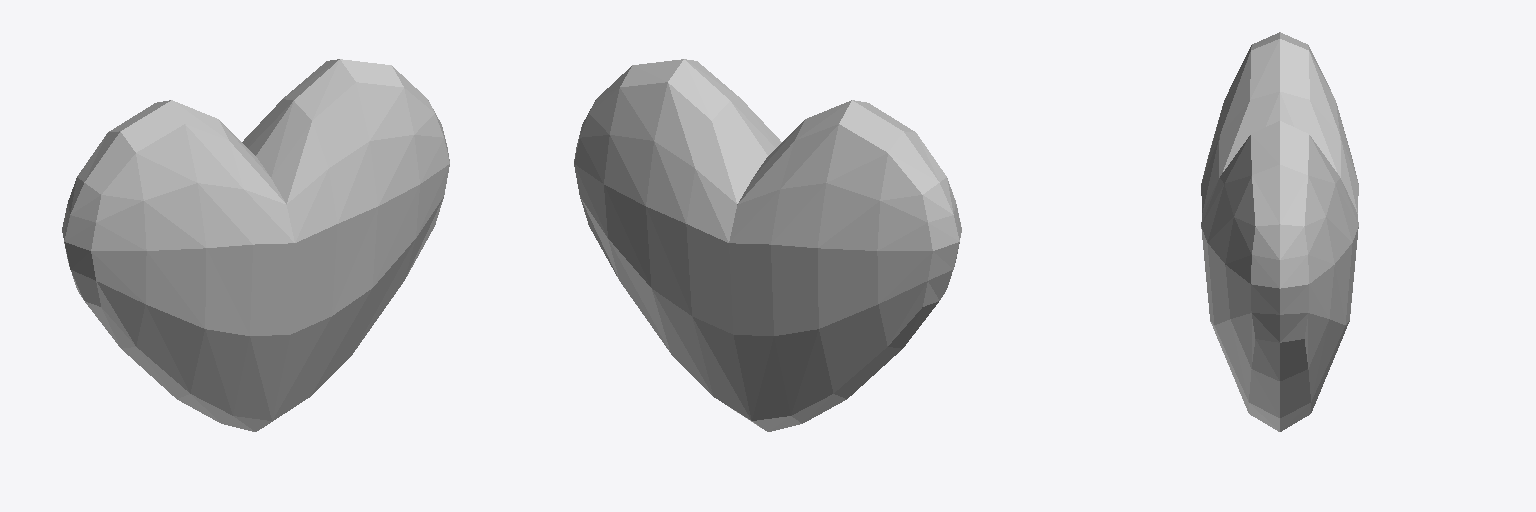
File: LifePickup.obj
3 views of the same model, side by side, from view 1: azimuth 30°, elevation 25°; view 2: azimuth 150°, elevation 25°; view 3: azimuth 270°, elevation 25° (orthographic).
Parts seen in each view (by area): view 1: Plane; view 2: Plane; view 3: Plane.
Boxes of the visible parts, x1,y1,x2,y2 form: Plane: [62, 59, 449, 431]; Plane: [574, 59, 961, 431]; Plane: [1201, 32, 1358, 431].
Size of the model in its own units: 0.7232 by 0.6354 by 0.2573.